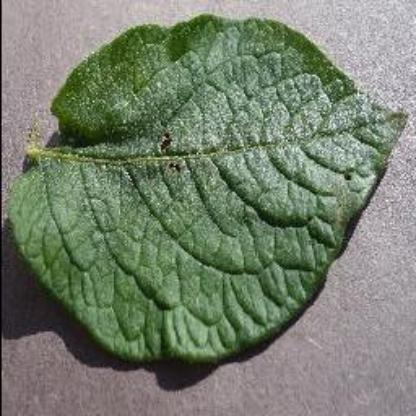Healthy-plant: (8, 9, 412, 373)
